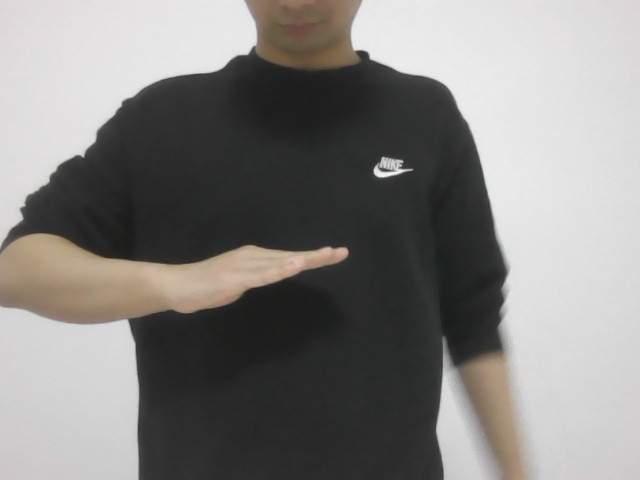safe: (159, 231, 361, 316)
